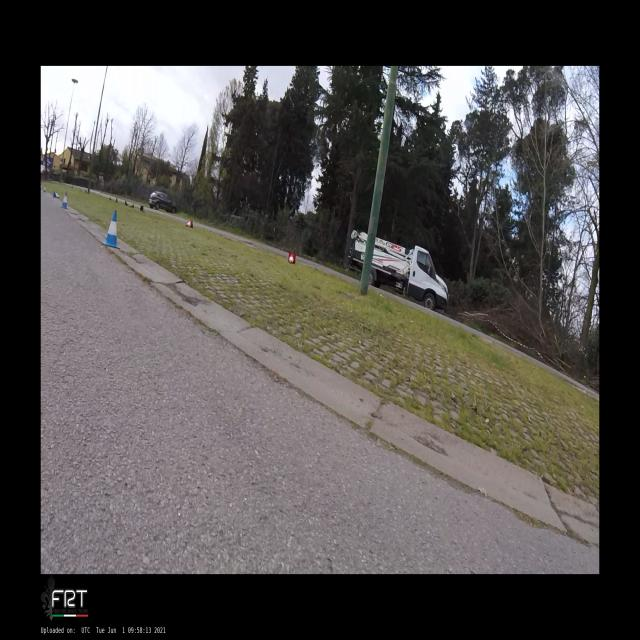blue_cone: (102, 210, 120, 249), (59, 192, 68, 210), (53, 190, 60, 199), (44, 184, 46, 193)
orange_cone: (288, 252, 296, 264), (185, 220, 193, 228)
unknown_cone: (140, 206, 144, 212), (130, 203, 134, 208), (125, 201, 128, 206), (116, 198, 118, 202)
